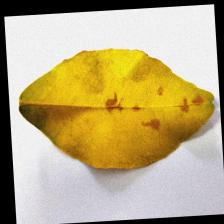canker: (96, 81, 203, 132)
